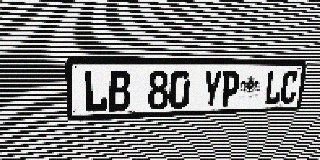0: (169, 71, 190, 109)
8: (148, 71, 170, 110)
B: (108, 71, 131, 112)
C: (279, 71, 299, 104)
L: (83, 70, 108, 113), (264, 71, 283, 105)
P: (220, 71, 241, 107)
Y: (201, 71, 222, 108)
